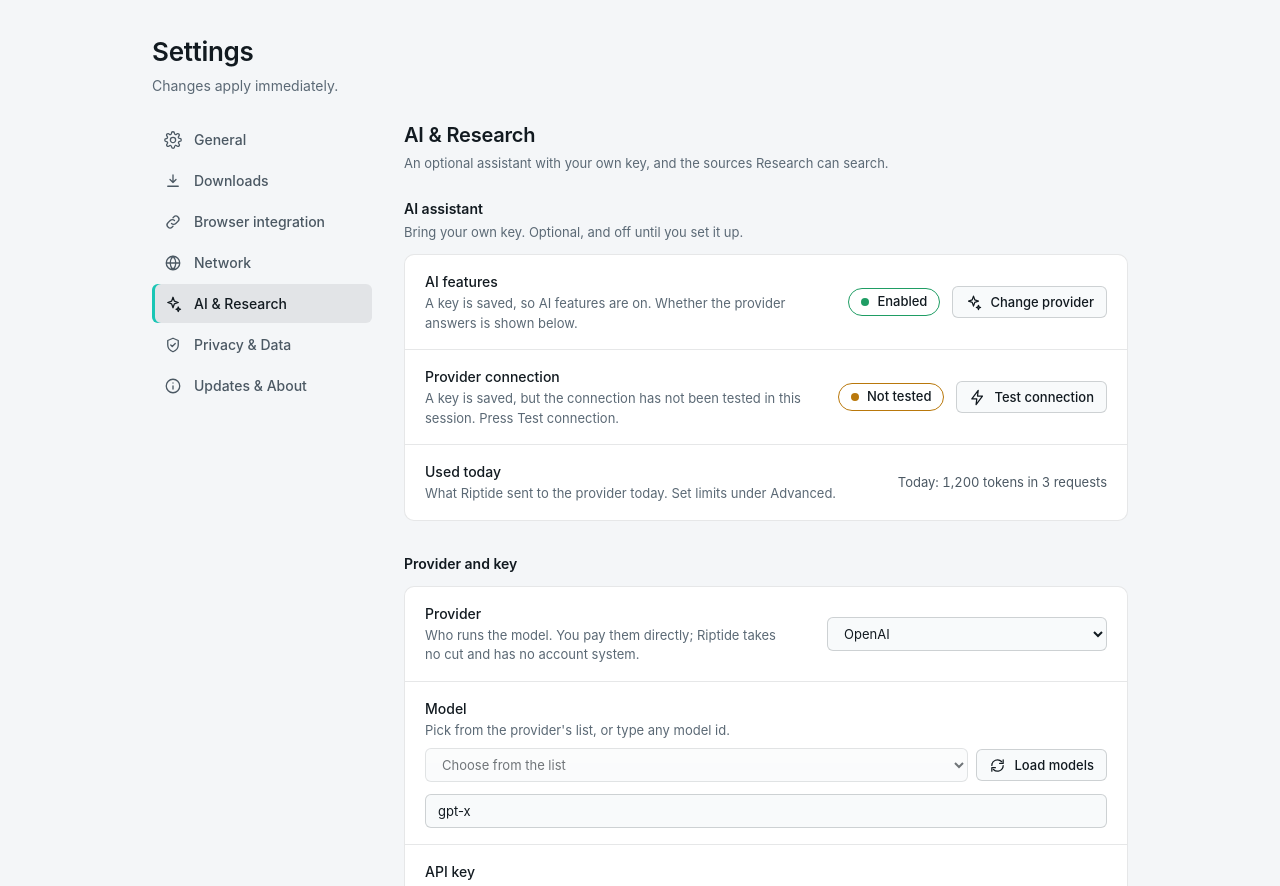
Scenario: SettingsPageComponent AI status › configured and the last test passed: provider working
Click the button "Test connection": [1032, 397] box [956,381,1107,413]
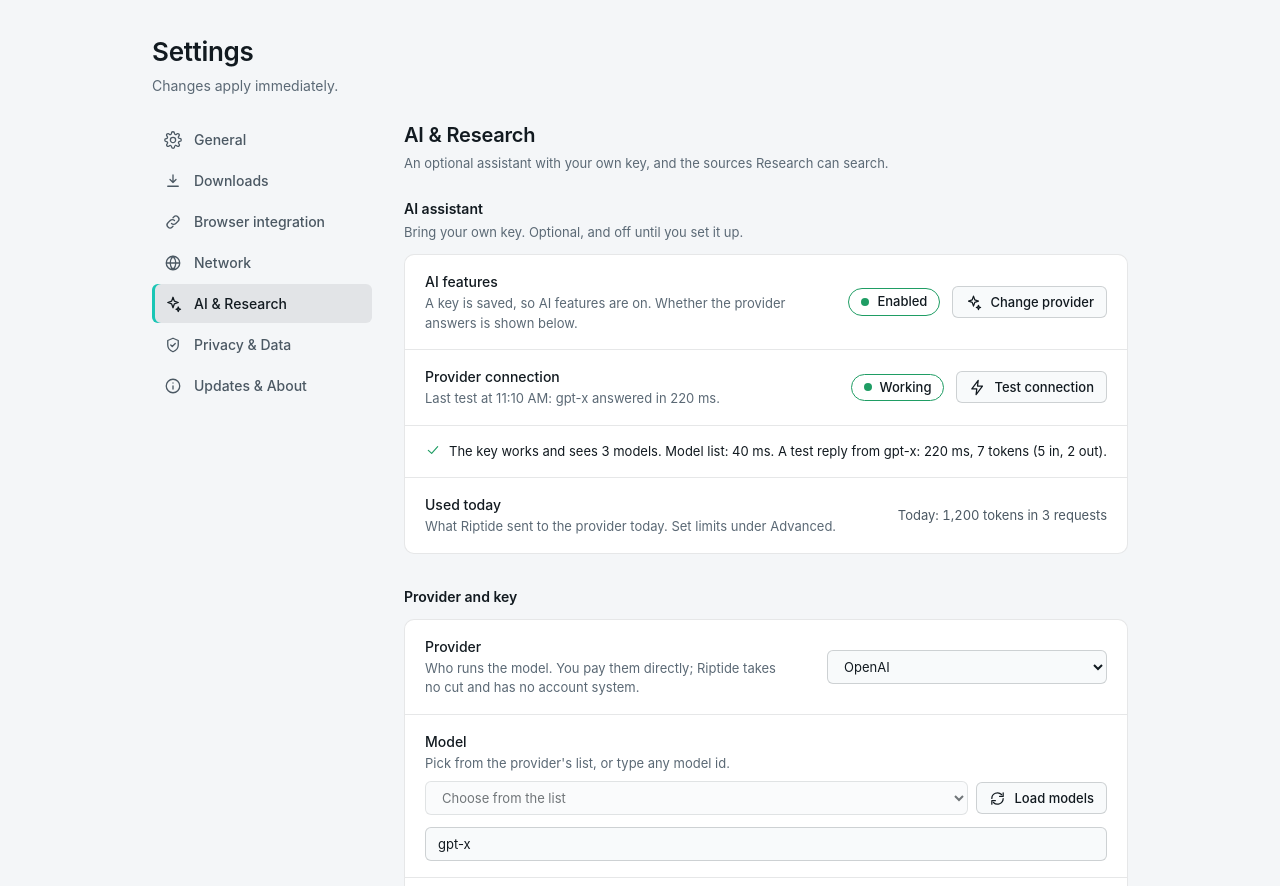
Expected: the message with test id "ai-enabled" reads "Enabled", [877,293,927,309]
Result: the message with test id "ai-provider" reads "Working" at [880,378,932,394]
Result: the element that starts with "Provider connection" shows "220" at [425,390,720,406]
